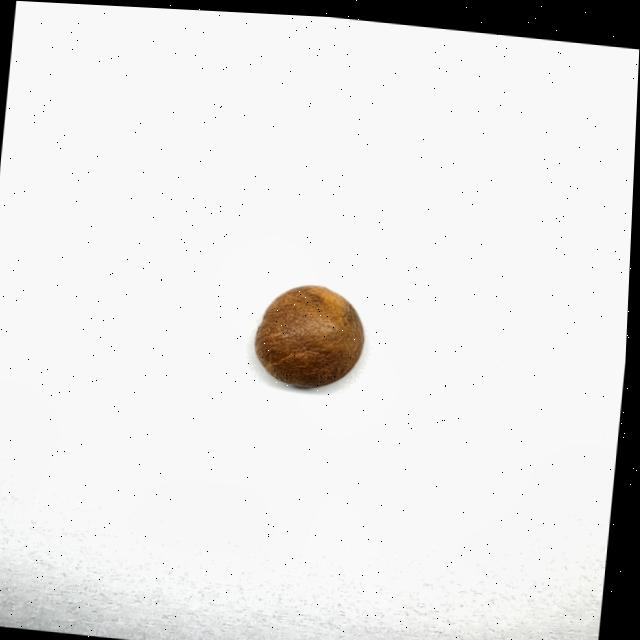Good bean: (253, 276, 372, 390)
